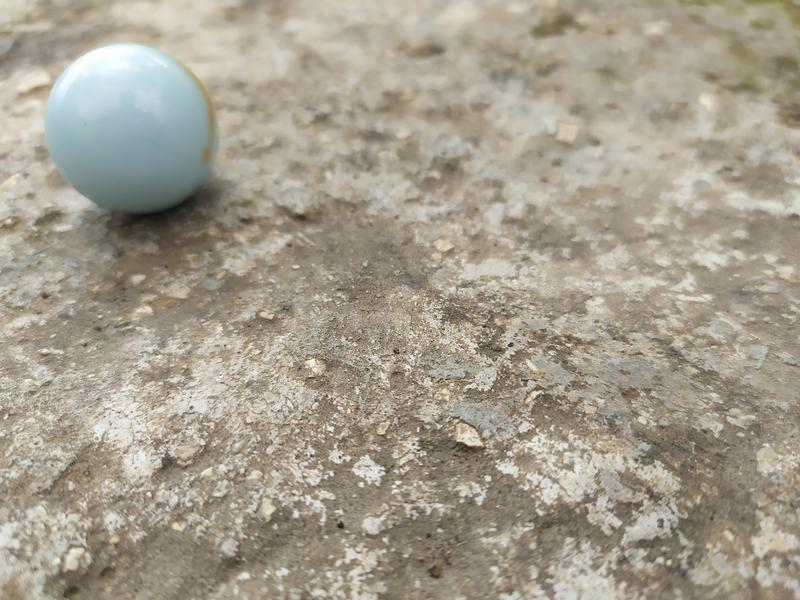Warning: (39, 40, 223, 221)
